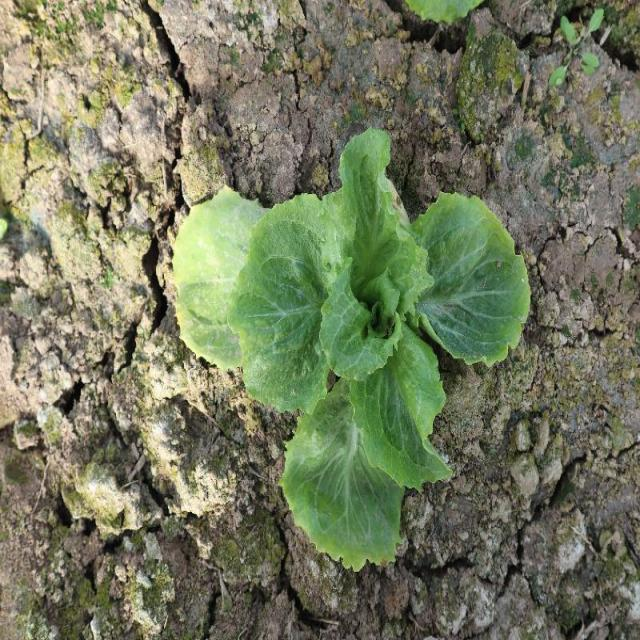crop: (171, 131, 532, 572)
